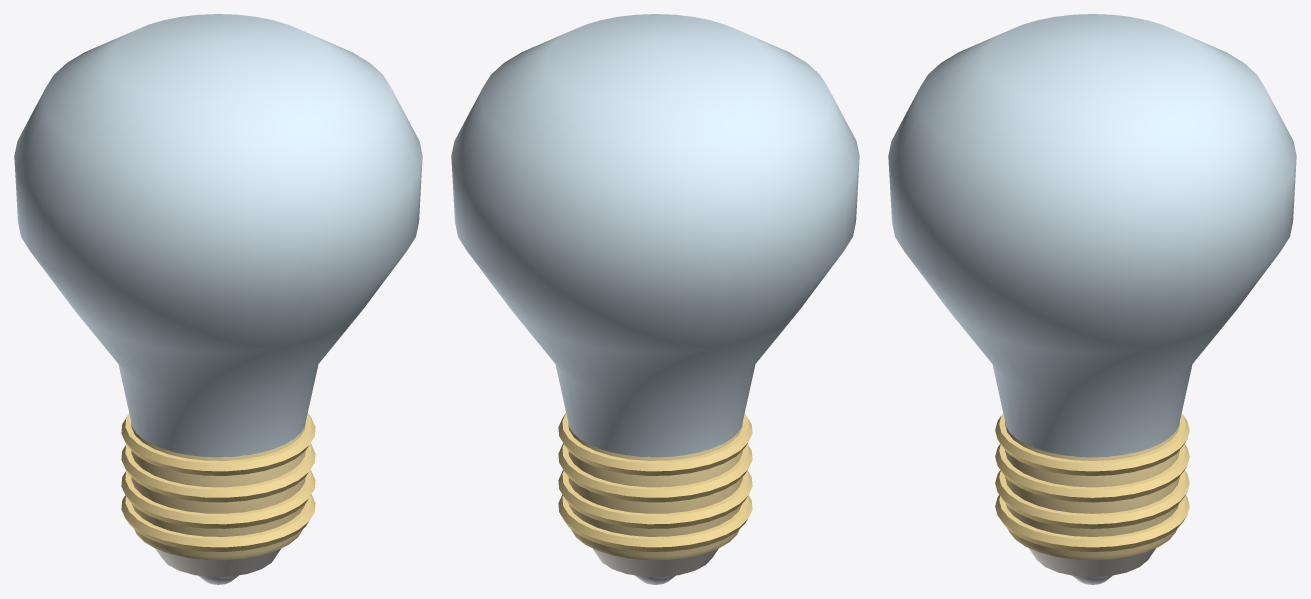
File: incandescent_bulb.glb
The picture shows the model from 3 angles, left to right: view 1: azimuth 30°, elevation 25°; view 2: azimuth 150°, elevation 25°; view 3: azimuth 270°, elevation 25°; orthographic projection.
Visible parts, largest first — view 1: BulbGlass; view 2: BulbGlass; view 3: BulbGlass.
Part boxes in pixels (left/top/right/bottom): BulbGlass: left=14, top=14, right=422, bottom=584; BulbGlass: left=451, top=14, right=859, bottom=584; BulbGlass: left=888, top=14, right=1296, bottom=584.
Size of the model in its own units: 1.12 by 1.62 by 1.12.
